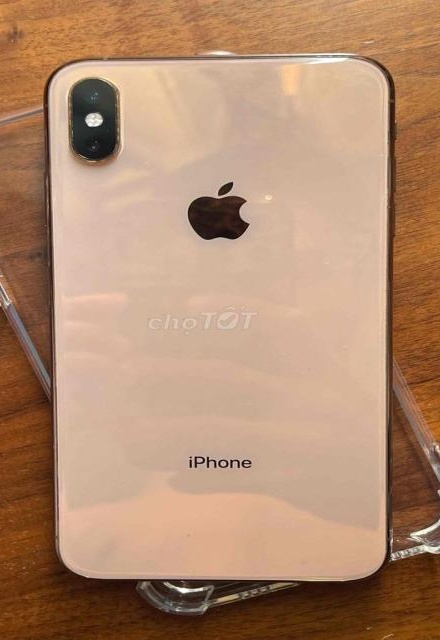scratch: (61, 88, 84, 154), (113, 88, 127, 156), (73, 567, 103, 586), (175, 528, 199, 541)
